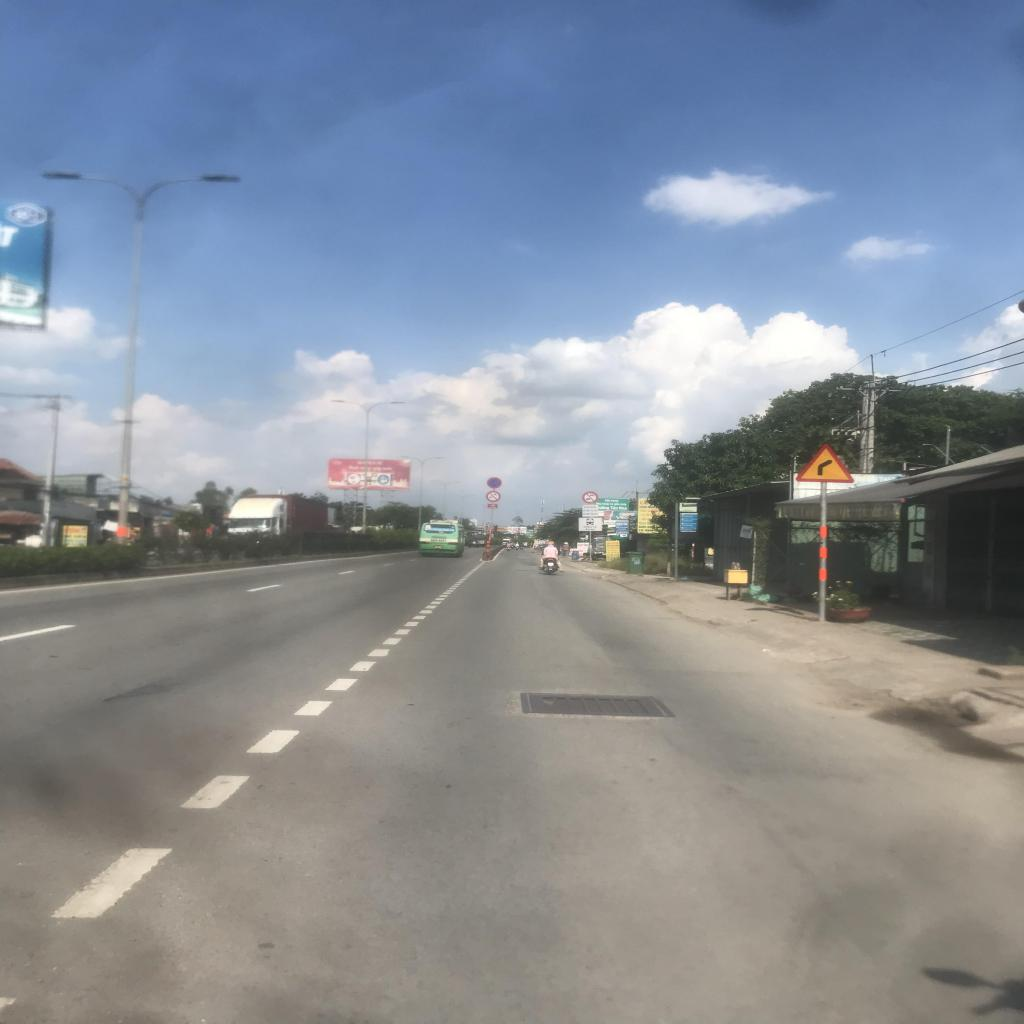cam_dung_xe_va_do_xe: (487, 477, 502, 488)
cam_o_to_tai_va_xe_khach: (582, 492, 598, 504)
cam_xe_2_banh_va_xe_3_banh_co_dong_co: (486, 491, 500, 501)
cho_ngoat_nguy_hiem_ben_phai: (793, 442, 856, 482)
khac: (578, 518, 602, 530), (582, 505, 598, 516)
